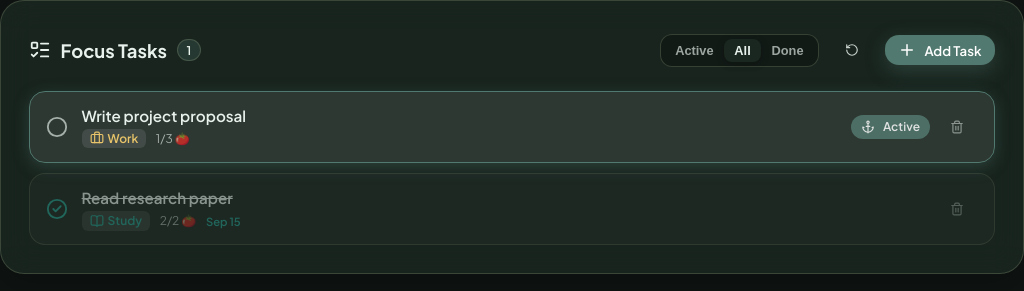
Test case: when TaskList is rendered › should reset filter to active when reset button is clicked
The width and height of the screenshot is (1024, 291).
Click the button "Done".
click(788, 50)  # box [761,38,814,62]
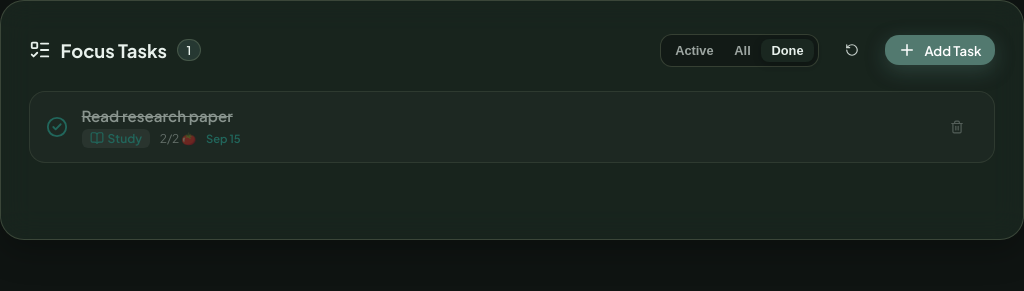
Check: the text "Read research paper" is shown, box [82,106,233,125]
Click the button titled "Reset filter to Active".
click(852, 50)  # box [831,29,873,71]
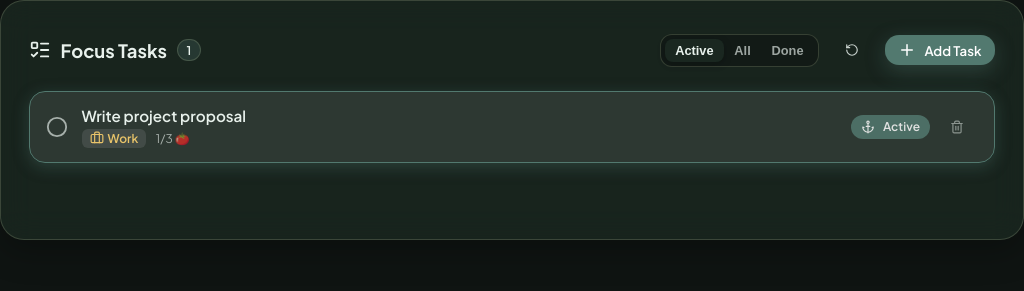
Check: the text "Write project proposal" is shown, box [82,106,246,125]
Check: the text "Read research paper" is gone
